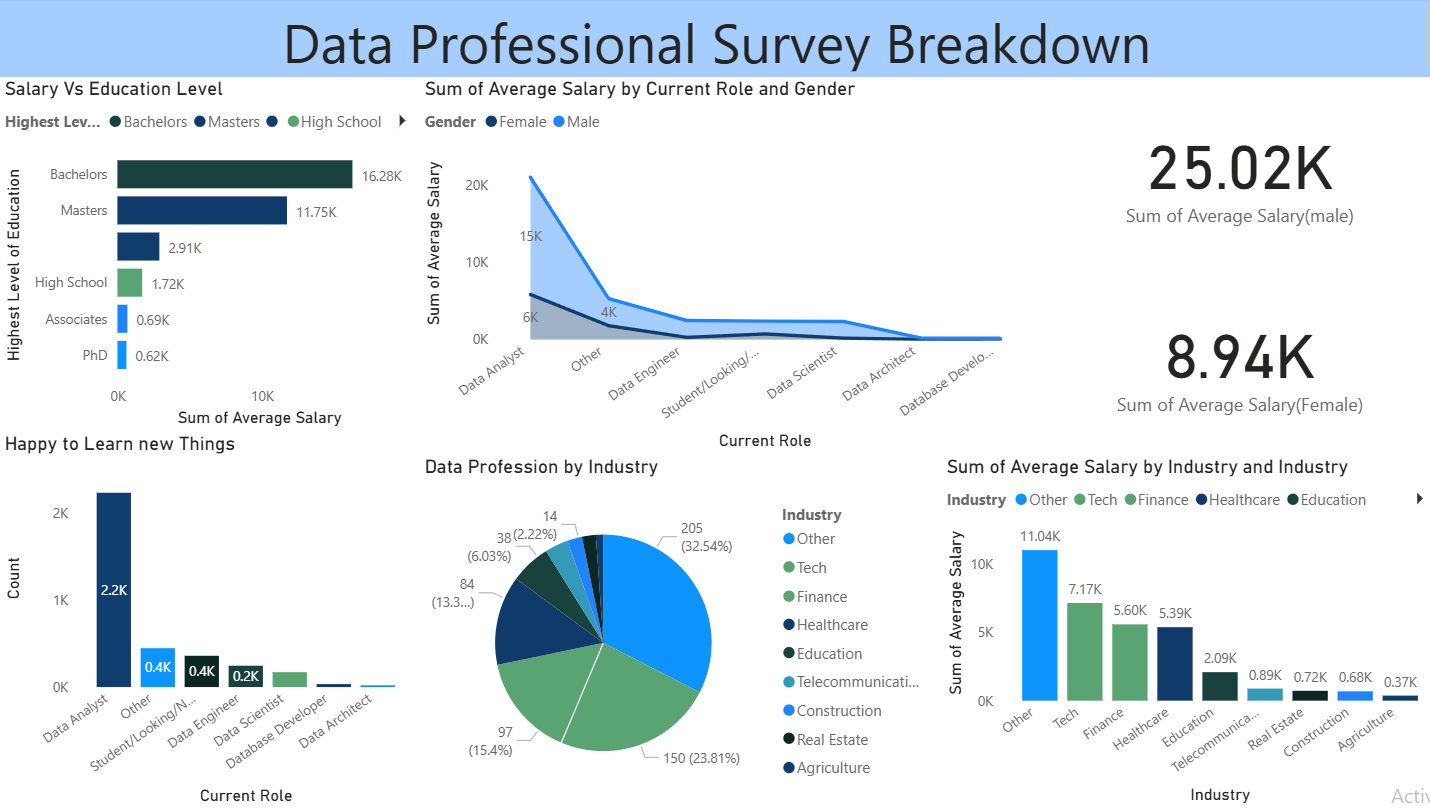

This screenshot's page, from the dashboard's own definition file:
{"tool":"powerbi","page":{"name":"Page 2","canvas":[1280,720],"ordinal":1},"visuals":[{"type":"columnChart","title":"Happy to Learn new Things","fields":{"Category":["Data Professional Survey.Q1 - Which Title Best Fits your Current Role?.1"],"Y":["Sum(Data Professional Survey.Q6 - How Happy are you in your Current Position with the following? (Learning New Things))"],"Series":["Data Professional Survey.Q1 - Which Title Best Fits your Current Role?.1"]},"box":[0,384.8,372.4,335.2],"z":0},{"type":"barChart","title":"Salary Vs Education Level","fields":{"Category":["Data Professional Survey.Q12 - Highest Level of Education"],"Series":["Data Professional Survey.Q12 - Highest Level of Education"],"Y":["Sum(Data Professional Survey.Average Salary)"]},"box":[0,70,372.4,314.8],"z":1000},{"type":"stackedAreaChart","fields":{"Category":["Data Professional Survey.Q1 - Which Title Best Fits your Current Role?.1"],"Y":["Sum(Data Professional Survey.Average Salary)"],"Series":["Data Professional Survey.Q9 - Male/Female?"]},"box":[372.4,70,548,335.2],"z":2000},{"type":"card","fields":{"Values":["Sum(Data Professional Survey.Average Salary)"]},"box":[920.4,70,360,167.6],"z":3000},{"type":"card","fields":{"Values":["Sum(Data Professional Survey.Average Salary)"]},"box":[920.4,237.6,360,167.6],"z":4000},{"type":"pieChart","fields":{"Category":["Data Professional Survey.Q4 - What Industry do you work in?.1"],"Y":["CountNonNull(Data Professional Survey.Q1 - Which Title Best Fits your Current Role?.1)"]},"box":[372.5,405.6,463,314.2],"z":5000},{"type":"columnChart","fields":{"Y":["Sum(Data Professional Survey.Average Salary)"],"Category":["Data Professional Survey.Q4 - What Industry do you work in?.1"],"Series":["Data Professional Survey.Q4 - What Industry do you work in?.1"]},"box":[835.5,405.6,444.5,314.2],"z":6000},{"type":"textbox","box":[0,0,1280.4,70],"z":7000}]}

Visuals, with their boxes in screenshot pixels (x1, y1, x2, y2), scaled from the page's 1280x720 canvas onto the 1430x809 screenshot:
"Happy to Learn new Things" columnChart: <bbox>0, 432, 416, 808</bbox>
"Salary Vs Education Level" barChart: <bbox>0, 79, 416, 432</bbox>
stackedAreaChart - Data Professional Survey.Q1 - Which Title Best Fits your Current Role?.1 x Sum(Data Professional Survey.Average Salary): <bbox>416, 79, 1028, 455</bbox>
card - Sum(Data Professional Survey.Average Salary): <bbox>1028, 79, 1429, 267</bbox>
card - Sum(Data Professional Survey.Average Salary): <bbox>1028, 267, 1429, 455</bbox>
pieChart - Data Professional Survey.Q4 - What Industry do you work in?.1 x CountNonNull(Data Professional Survey.Q1 - Which Title Best Fits your Current Role?.1): <bbox>416, 456, 933, 808</bbox>
columnChart - Sum(Data Professional Survey.Average Salary) x Data Professional Survey.Q4 - What Industry do you work in?.1: <bbox>933, 456, 1429, 808</bbox>
textbox: <bbox>0, 0, 1429, 79</bbox>
